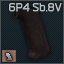AK bakelite pistol grip 6P4 Sb.8V: (0, 0, 64, 64)
